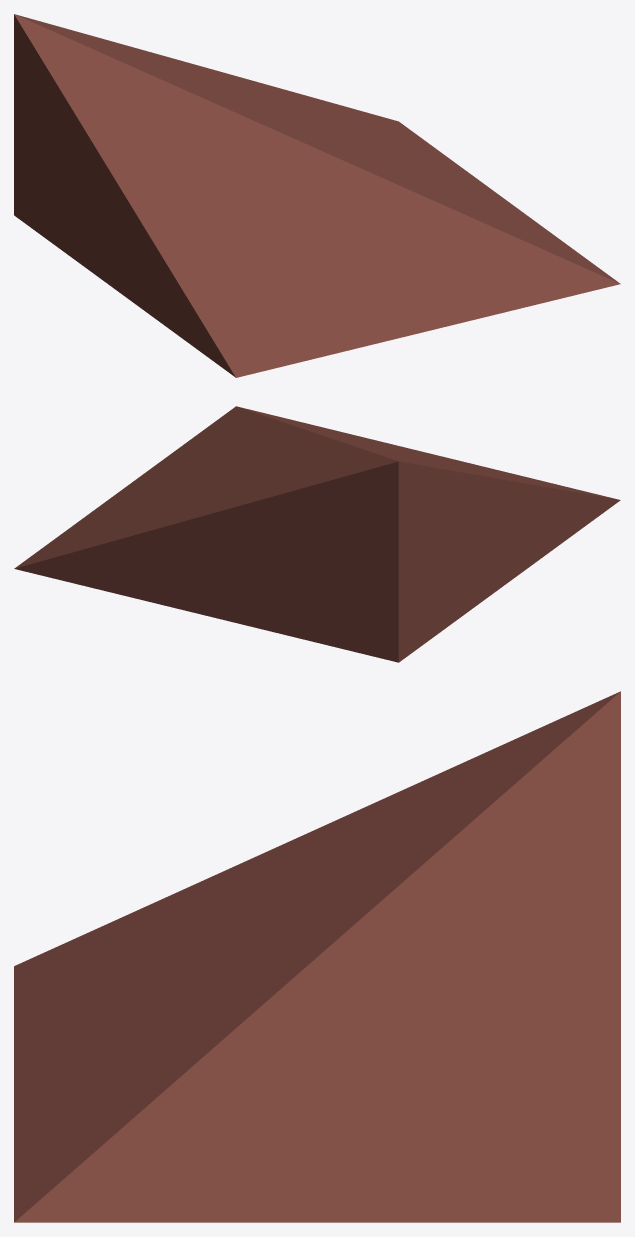
Rendered from Dirt_Large_Slope_Corner.glb.
3 views of the same model, one above another, from view 1: azimuth 30°, elevation 25°; view 2: azimuth 150°, elevation 25°; view 3: azimuth 270°, elevation 25° (orthographic). The views are drawn at different scales.
Parts seen in each view (by area): view 1: Dirt Large Slope Corner; view 2: Dirt Large Slope Corner; view 3: Dirt Large Slope Corner.
Boxes of the visible parts, x1=… form: Dirt Large Slope Corner: x1=14, y1=14, x2=620, y2=377; Dirt Large Slope Corner: x1=14, y1=406, x2=620, y2=662; Dirt Large Slope Corner: x1=14, y1=691, x2=620, y2=1222.
Bounding box in the file's own units: 4 × 2 × 4.
1 material, 1 textured.
